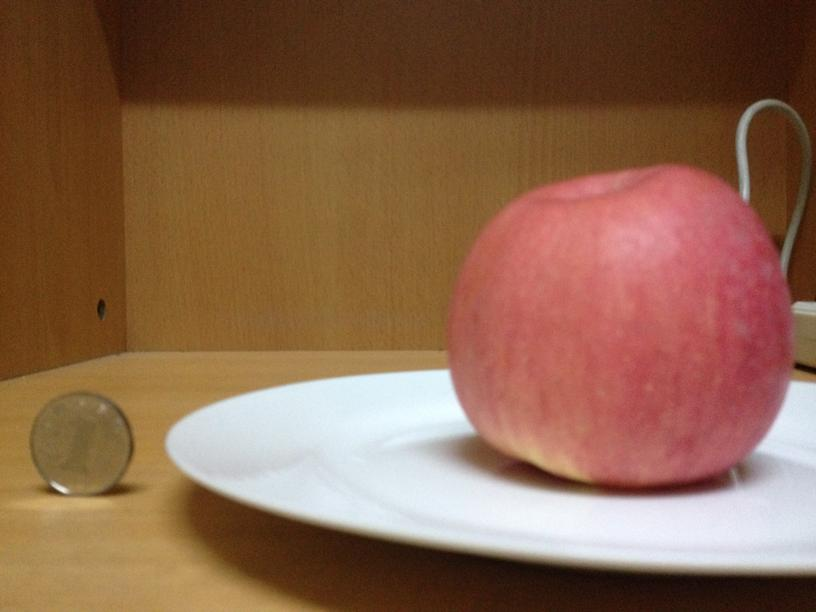apple: (451, 158, 798, 488)
coin: (24, 393, 135, 493)
